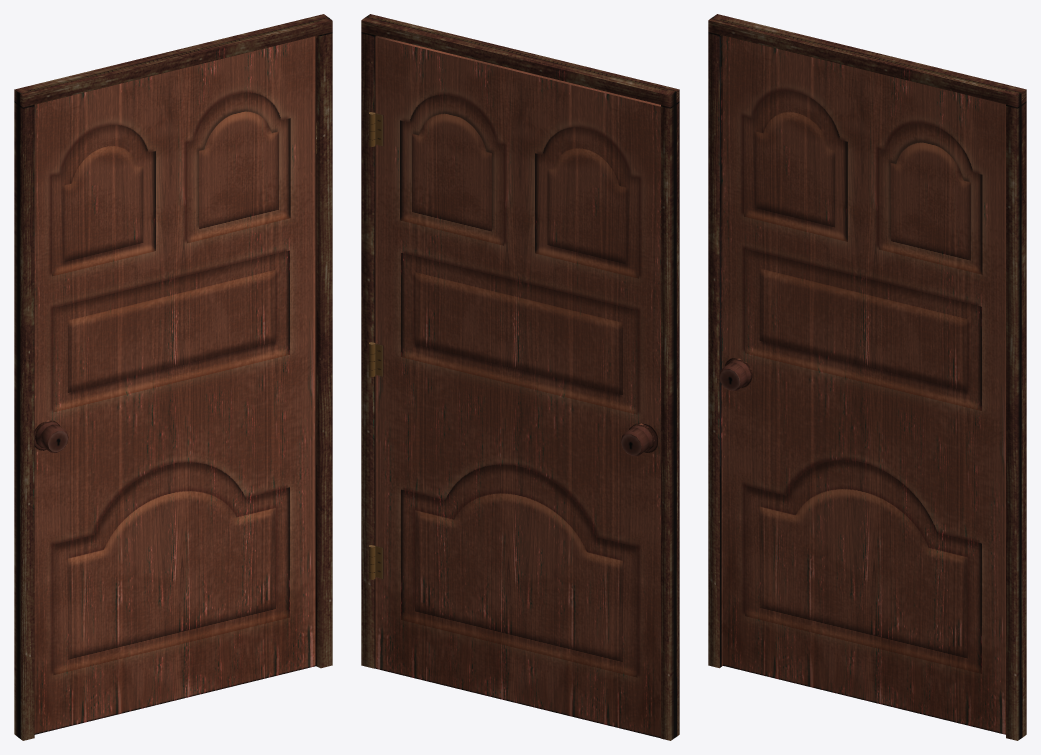
The model's file is dh_westerndoor.FBX.
3 views of the same model, side by side, from view 1: azimuth 30°, elevation 25°; view 2: azimuth 150°, elevation 25°; view 3: azimuth 330°, elevation 25° (orthographic).
Parts seen in each view (by area): view 1: Plane009, Plane008; view 2: Plane009, Plane008; view 3: Plane009, Plane008.
Boxes of the visible parts, <box> form: Plane009: <box>34,36,315,734</box>; Plane008: <box>14,14,332,740</box>; Plane009: <box>374,35,660,738</box>; Plane008: <box>361,14,679,740</box>; Plane009: <box>719,35,1005,734</box>; Plane008: <box>708,14,1026,740</box>.
Bounding box in the file's own units: 43.05 × 85.65 × 6.46.
